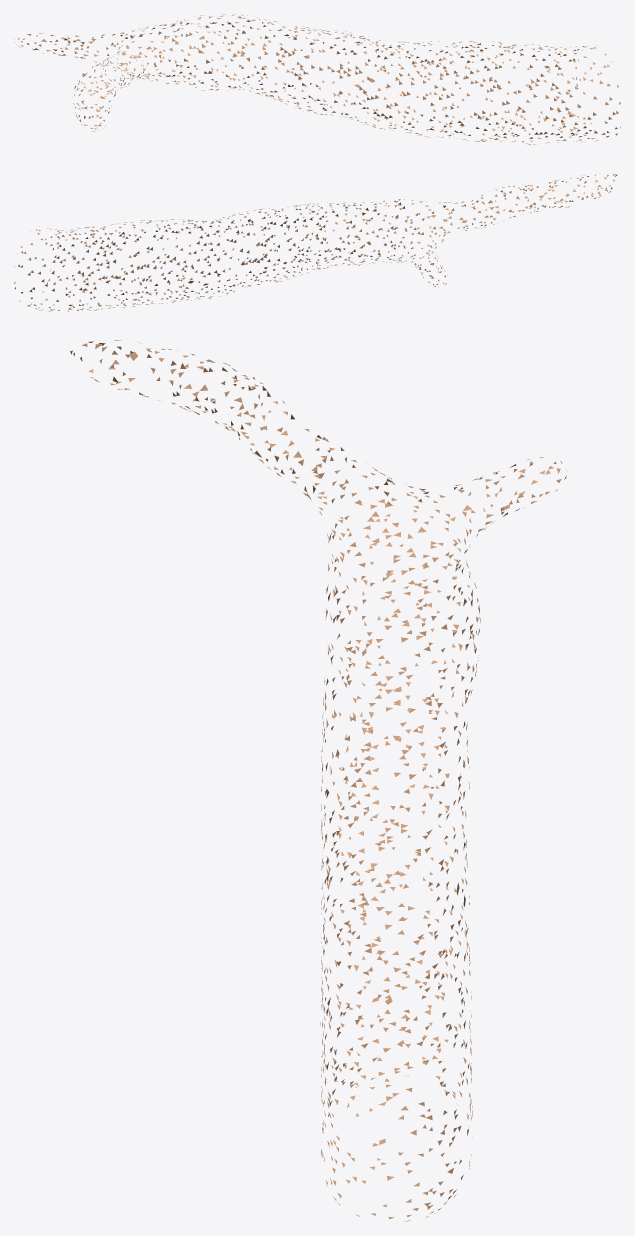
Rendered from morph_005.glb.
The picture shows the model from 3 angles, top to bottom: view 1: azimuth 30°, elevation 25°; view 2: azimuth 150°, elevation 25°; view 3: azimuth 270°, elevation 25°; orthographic projection. The views are drawn at different scales.
Bounding box in the file's own units: 114 × 42.91 × 48.53.
